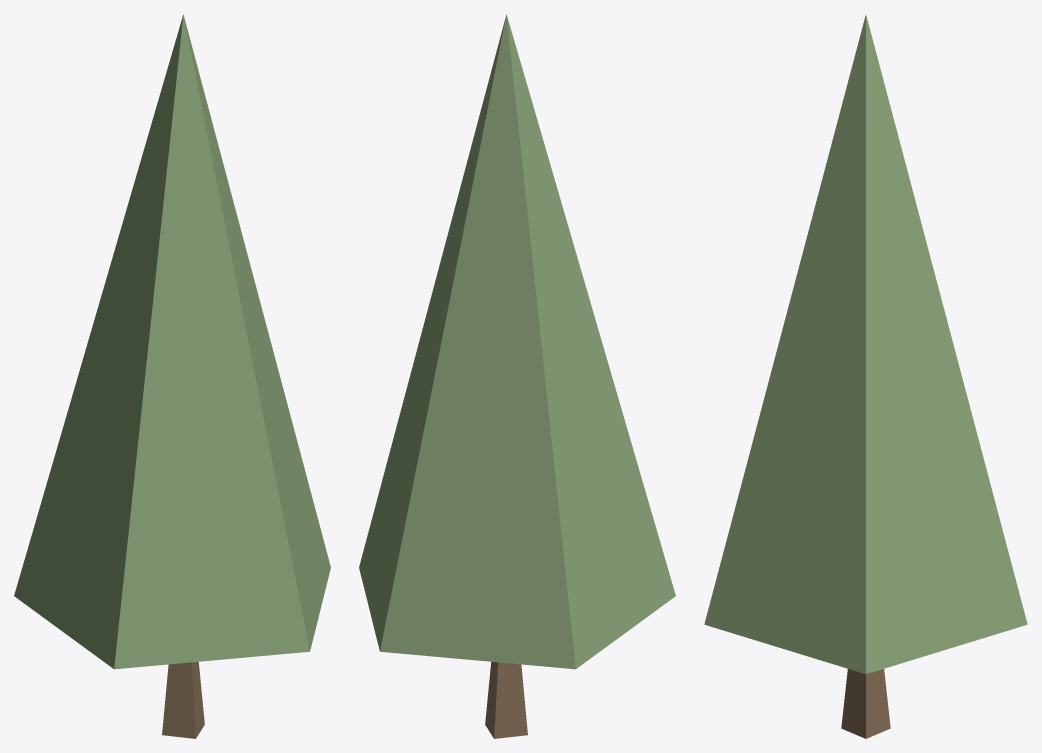
File: larch_far.glb
The picture shows the model from 3 angles, left to right: view 1: azimuth 30°, elevation 25°; view 2: azimuth 150°, elevation 25°; view 3: azimuth 270°, elevation 25°; orthographic projection.
Parts seen in each view (by area): view 1: larch_far; view 2: larch_far; view 3: larch_far.
Part boxes in pixels (x1,y1,x2,y2): larch_far: (14,14,330,738); larch_far: (359,14,675,738); larch_far: (704,15,1027,738).
Bounding box in the file's own units: 1.99 × 5.1 × 2.09.
